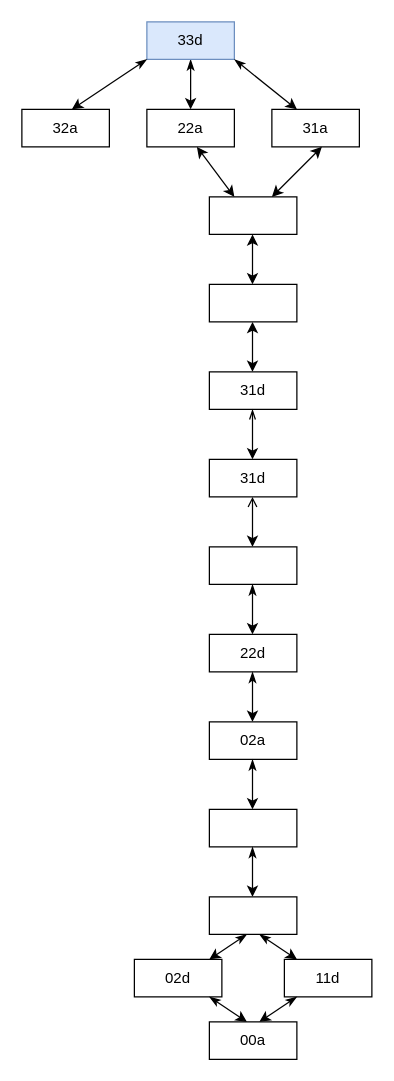
Some shapes in this 394 by 1081 pixel diagram are drawn without their labels. The shapes that lost their labels are listed below. From the top down, each one's box as (x1, y1, x2, y2) in pixels, then its label:
(208, 196, 297, 234): 32d
(208, 283, 297, 322): 30a
(208, 546, 297, 584): 11a
(208, 808, 297, 847): 03d
(208, 896, 297, 934): 01a
